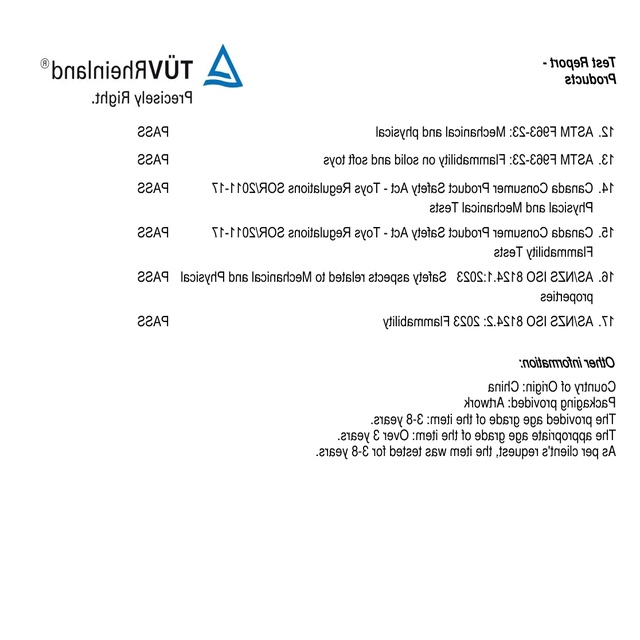tuv_rheinland: (39, 42, 244, 91)
